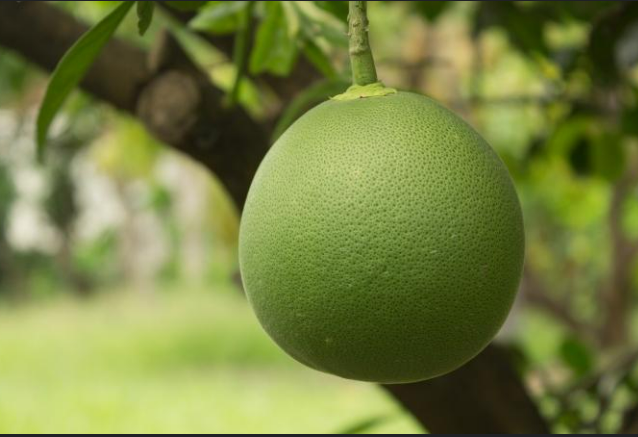buoi: (239, 71, 527, 388)
